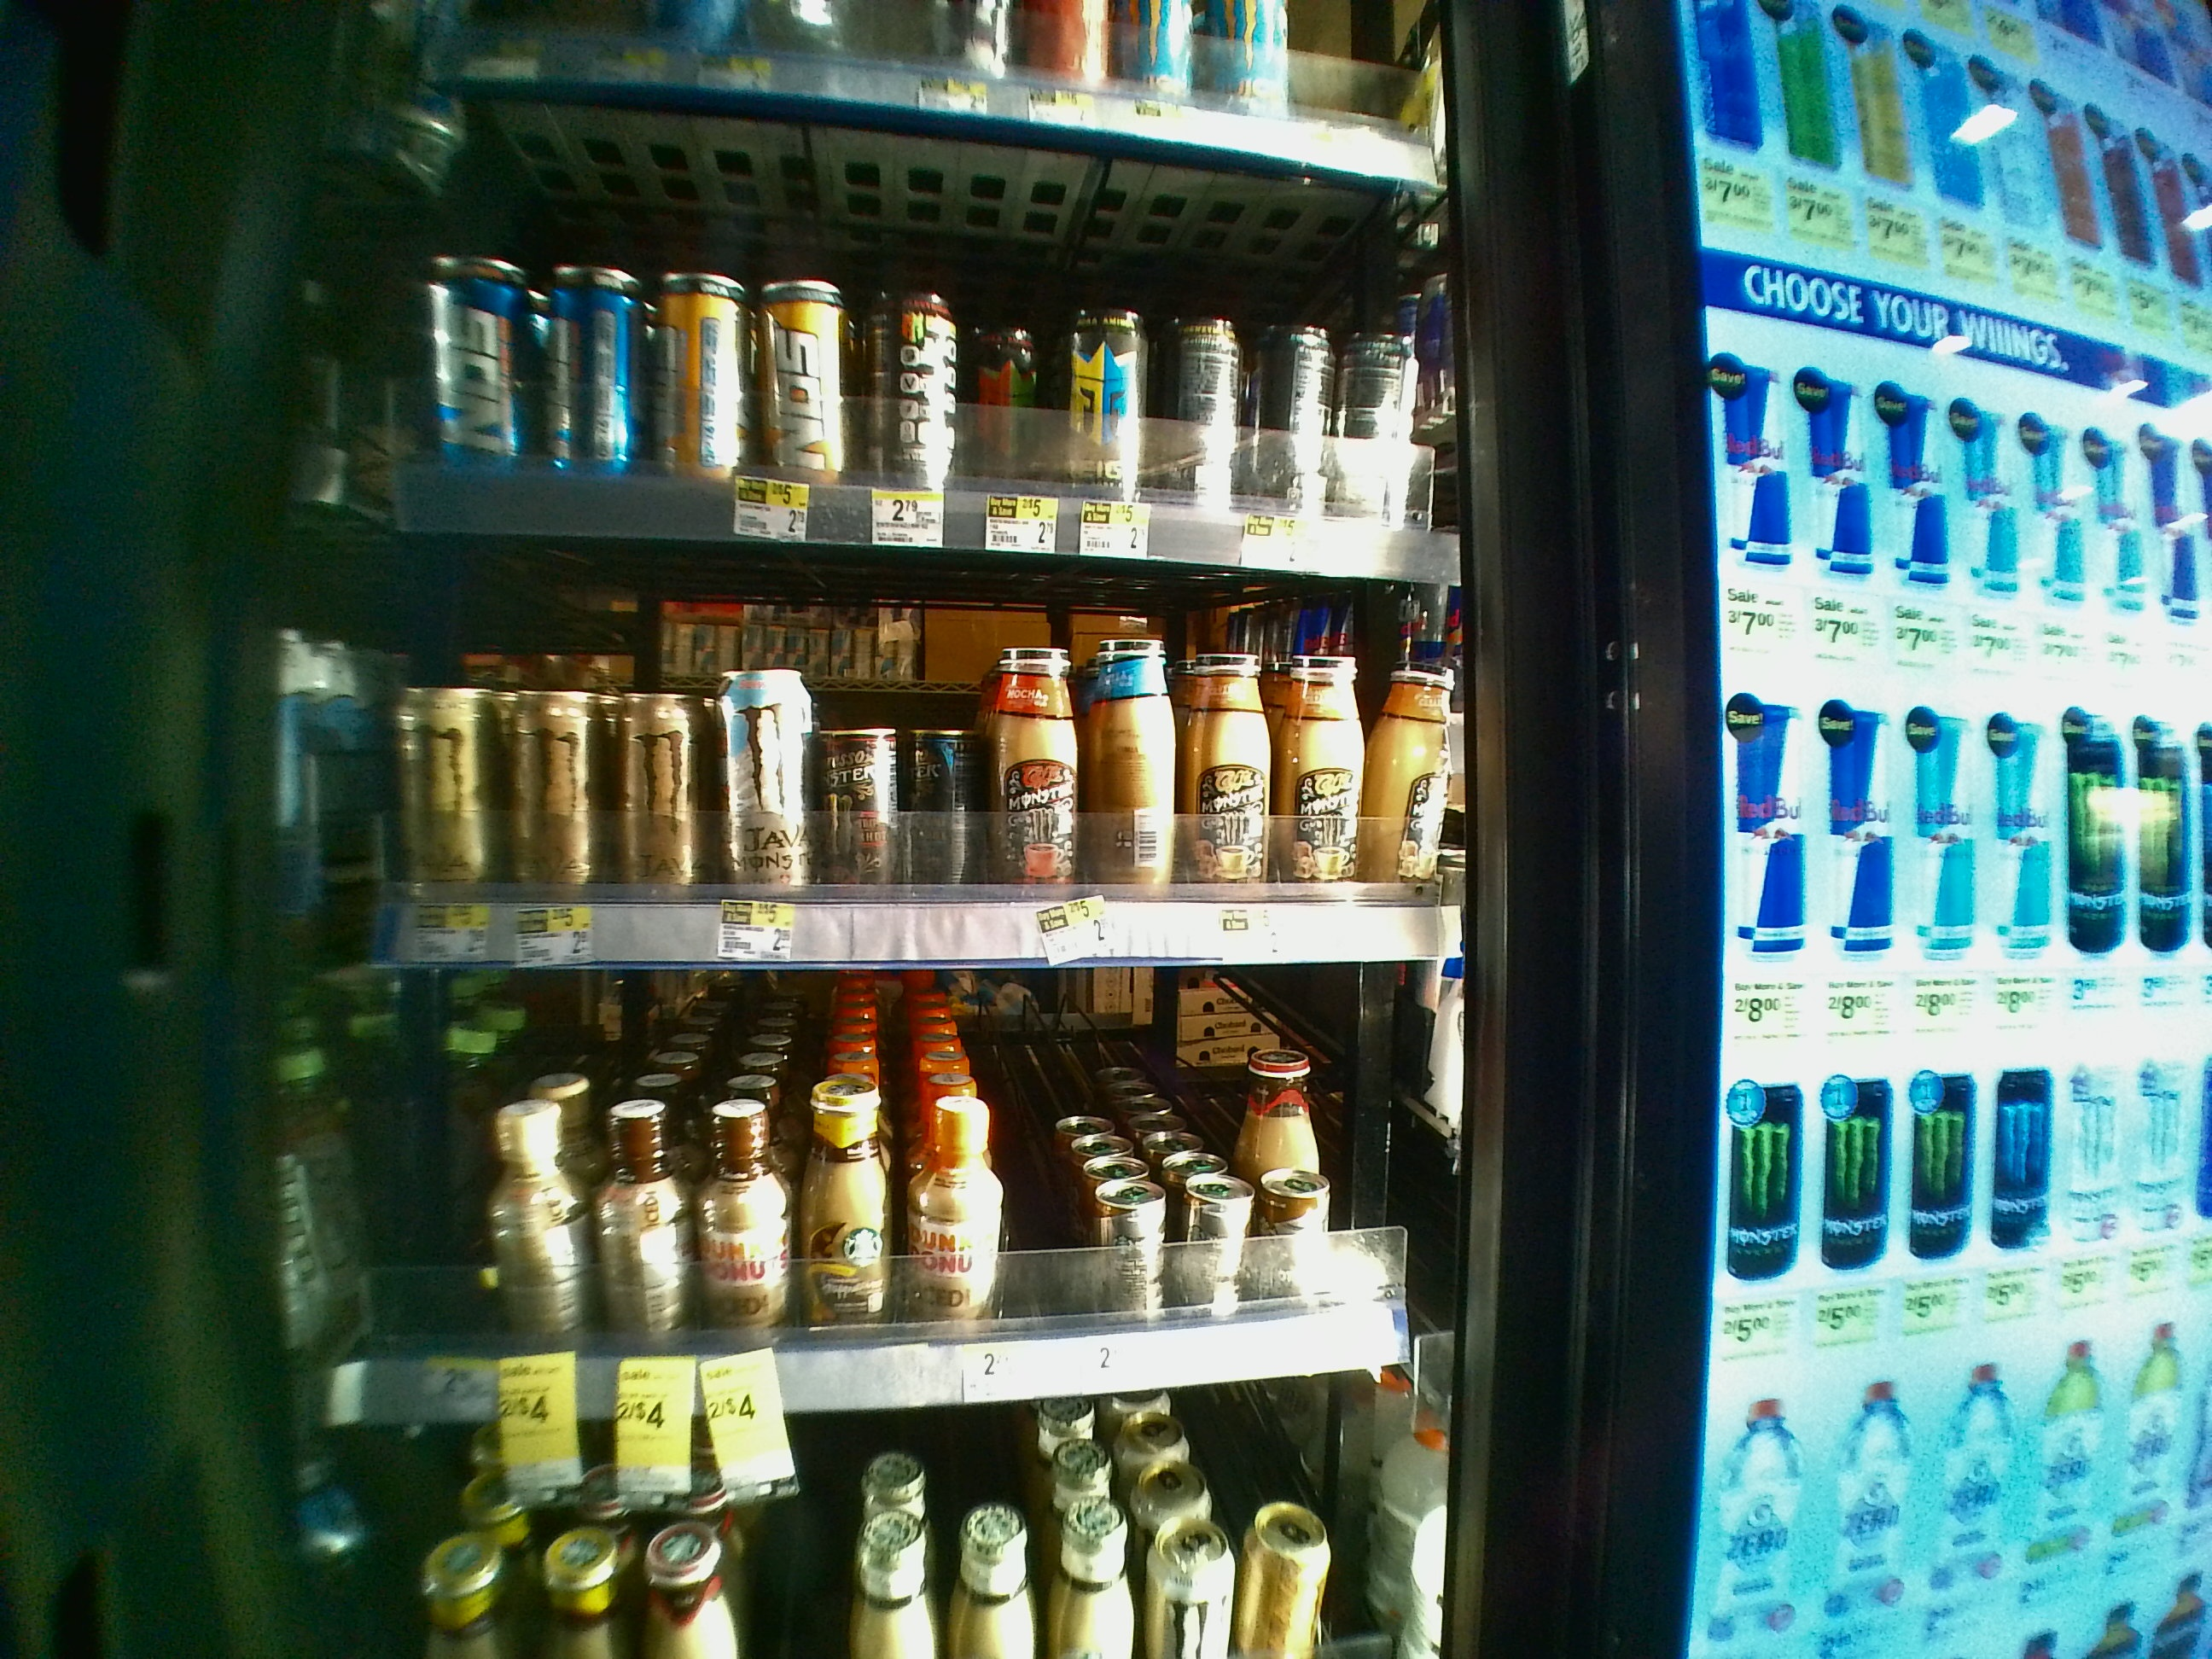shelf: (343, 971, 1494, 1413), (366, 552, 1486, 964)
